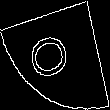O_E: (29, 27, 81, 83)
